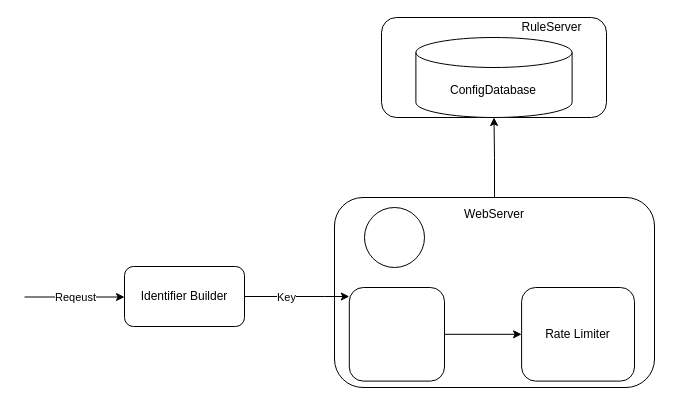
Image size: 688x415. Some labels were removed from this diagram. The box of each missing label's shape, as (x1, y1, x2, y2) in pixels:
getConfig: (348, 286, 444, 381)
Period Config Updater: (364, 206, 424, 268)
